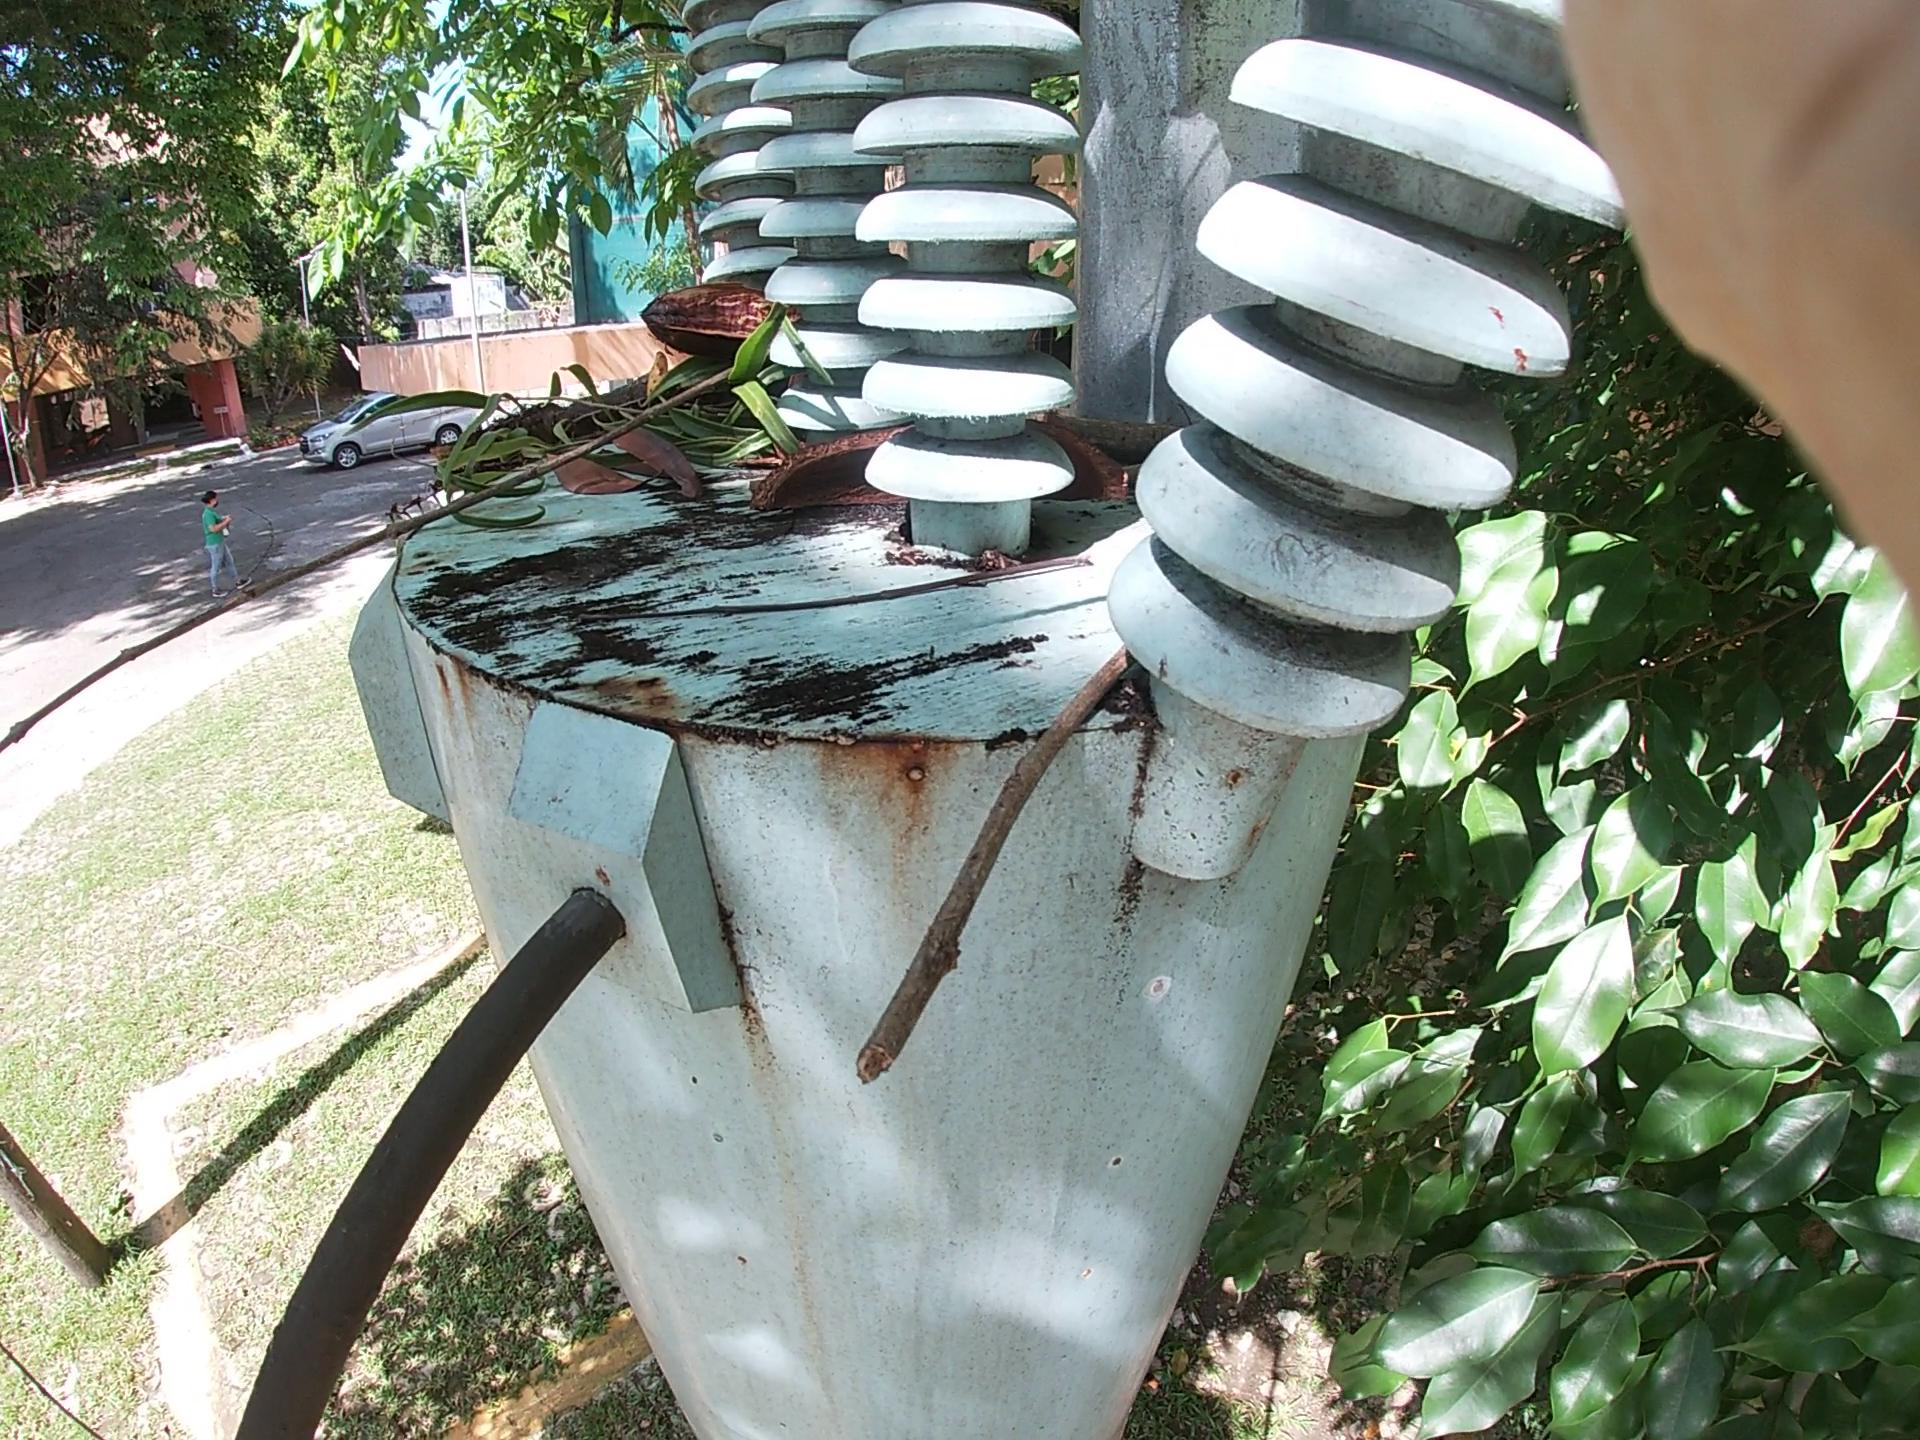branch with leaves: (328, 271, 857, 502)
leaf: (562, 408, 670, 531)
mahogany fruit: (736, 424, 1161, 537), (646, 284, 884, 402)
tree branch: (85, 411, 621, 672), (839, 582, 1098, 1071)
